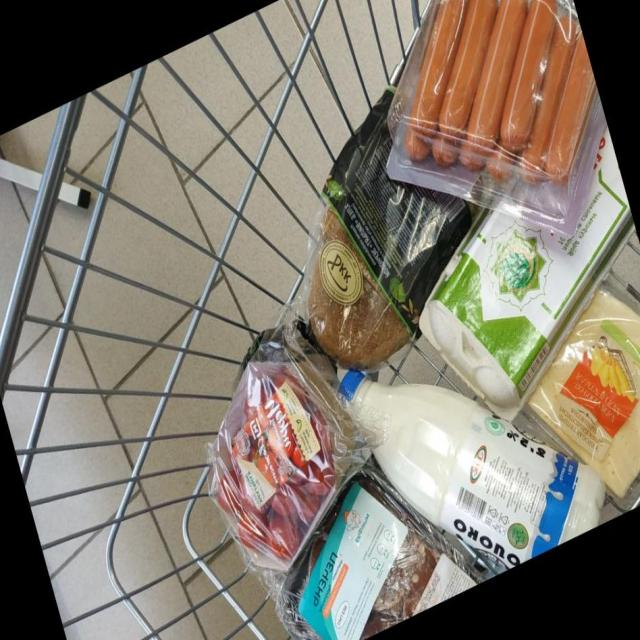Bread: (306, 88, 472, 368)
Cheese: (529, 290, 640, 496)
Eggs: (419, 123, 633, 409)
Meat: (277, 466, 486, 640)
Milk: (341, 372, 605, 569)
Sausages: (387, 0, 606, 235)
Tomatoes: (268, 513, 300, 557), (237, 511, 268, 549), (217, 471, 243, 513), (307, 463, 335, 496), (273, 493, 297, 516), (299, 495, 319, 522)
